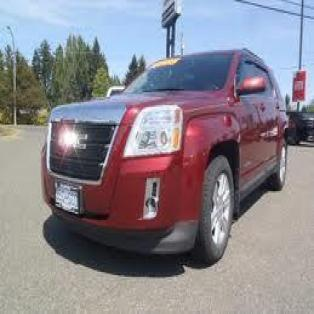Auto: (45, 50, 293, 269)
